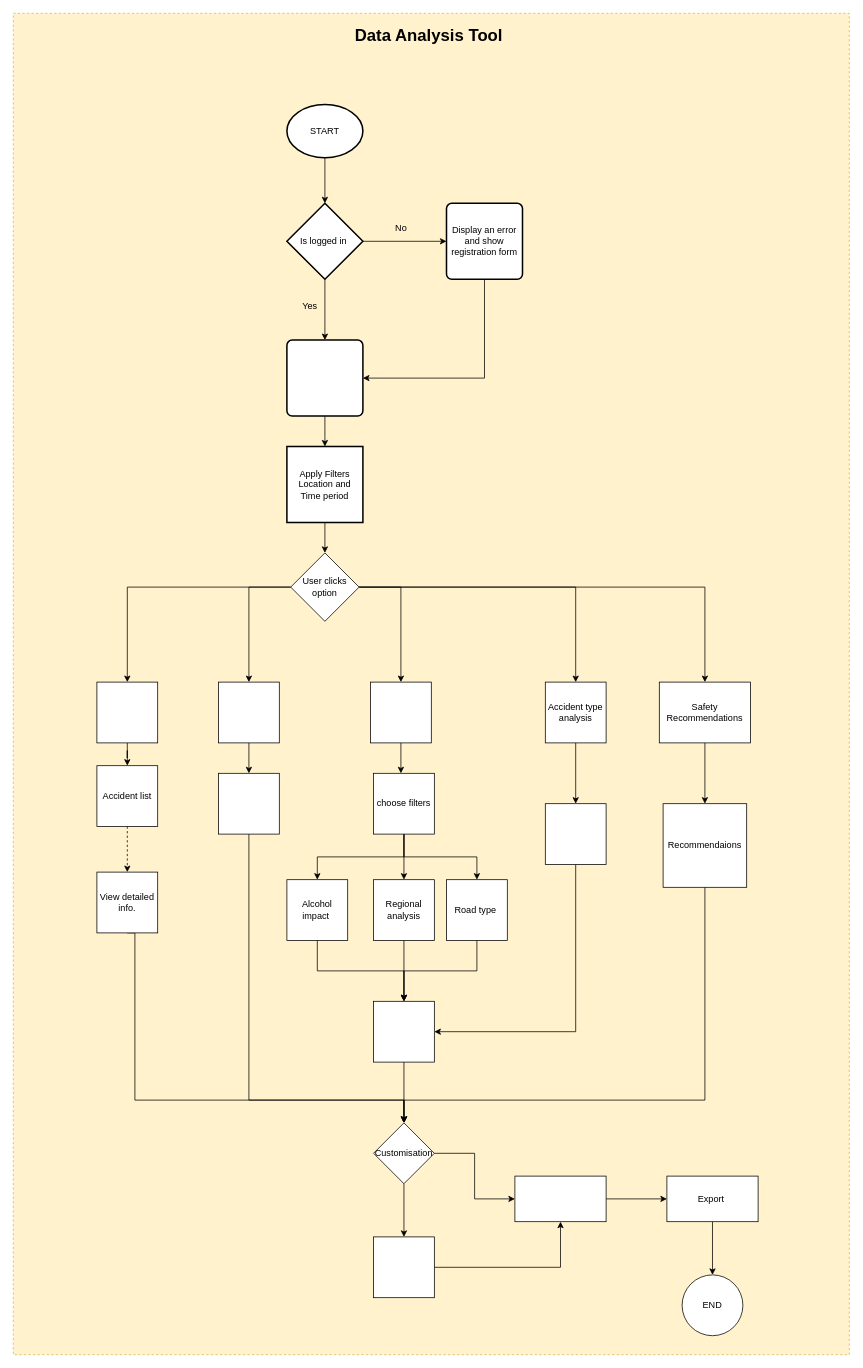
This 863x1368 diagram has some shape labels left out. Each missing label, with the box of its shape:
Accident information: (96, 681, 158, 743)
Comparative analysis: (370, 681, 431, 743)
Dashboard overview: (286, 339, 363, 416)
Display time series graphs and trends: (218, 773, 279, 834)
Display trend analysis: (373, 1001, 434, 1062)
Generate reports: (514, 1175, 606, 1222)
Keyword search: (545, 803, 606, 864)
Make changes: (373, 1236, 434, 1298)
Time trends: (218, 681, 279, 743)
